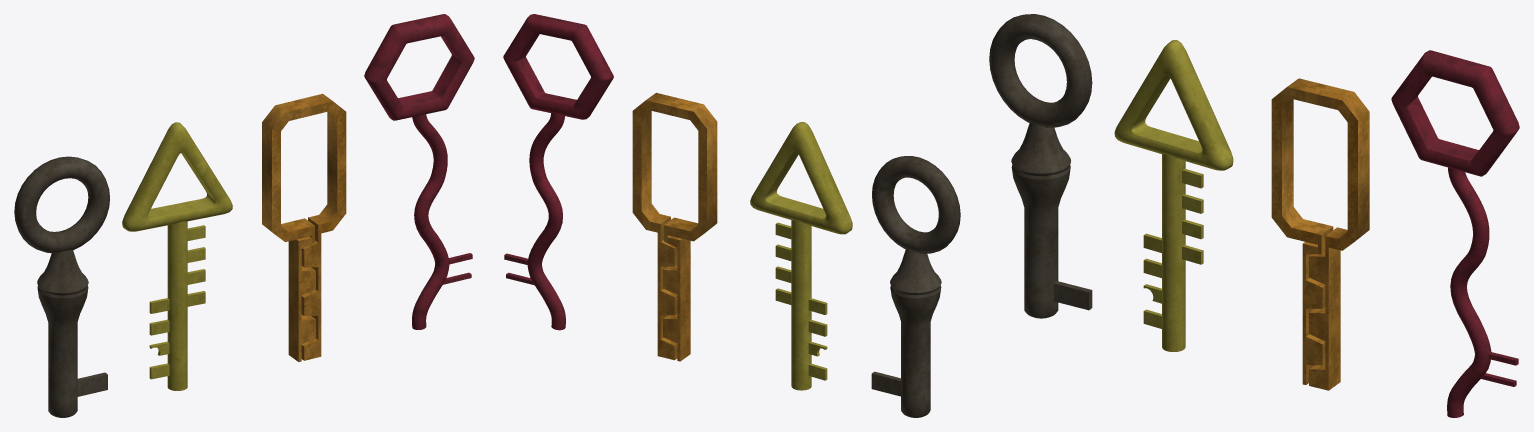
The model's file is llaves.fbx.
3 views of the same model, side by side, from view 1: azimuth 30°, elevation 25°; view 2: azimuth 150°, elevation 25°; view 3: azimuth 330°, elevation 25° (orthographic). The views are drawn at different scales.
Parts seen in each view (by area): view 1: Llave_Habitaciones, llave_maxilla, llave manus, llave oculus; view 2: Llave_Habitaciones, llave_maxilla, llave manus, llave oculus; view 3: Llave_Habitaciones, llave_maxilla, llave manus, llave oculus.
Boxes of the visible parts, box(x1,y1,x2,y2) form: Llave_Habitaciones: box(14, 156, 109, 417); llave_maxilla: box(262, 93, 346, 361); llave manus: box(122, 122, 232, 390); llave oculus: box(364, 14, 474, 329); Llave_Habitaciones: box(871, 156, 960, 417); llave_maxilla: box(632, 92, 717, 361); llave manus: box(750, 122, 852, 390); llave oculus: box(503, 14, 613, 330); Llave_Habitaciones: box(989, 14, 1092, 318); llave_maxilla: box(1271, 78, 1369, 390); llave manus: box(1114, 40, 1233, 351); llave oculus: box(1391, 50, 1519, 417).
Size of the model in its own units: 13.18 by 8.53 by 1.29.
